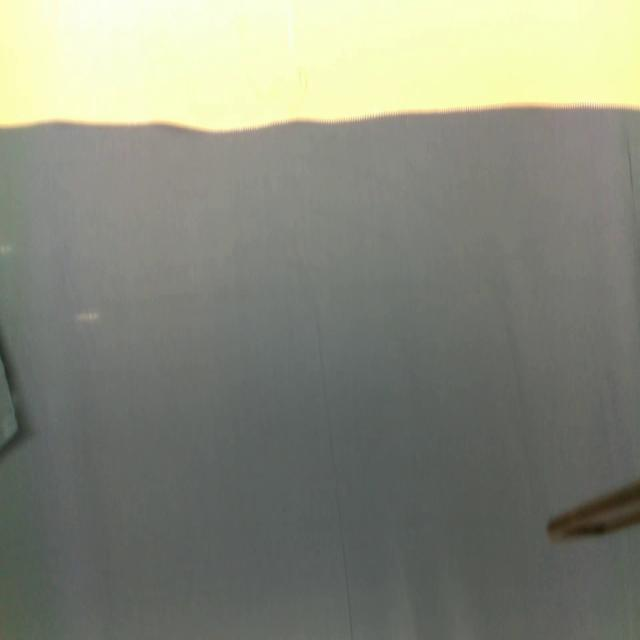crease: (316, 318, 354, 636)
